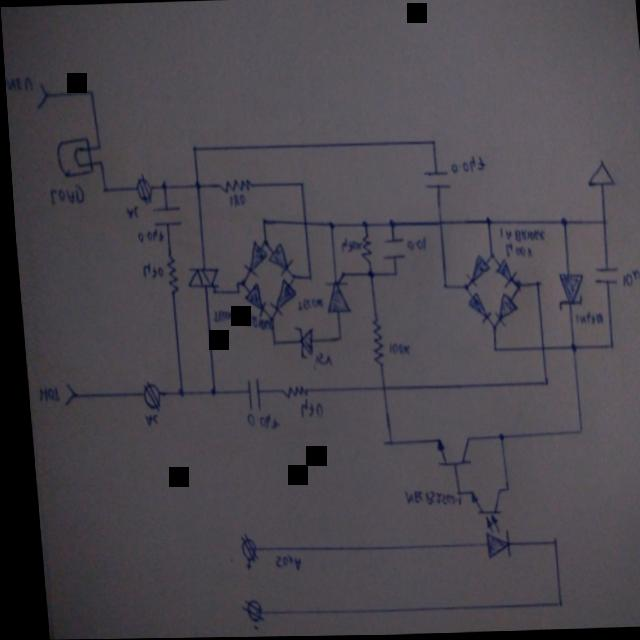capacitor: (377, 235, 401, 263), (420, 167, 446, 192), (148, 205, 177, 227), (238, 378, 257, 410), (588, 265, 613, 289)
crossover: (372, 384, 381, 394), (432, 220, 439, 228), (297, 220, 304, 228), (533, 346, 540, 354)
diode: (550, 273, 581, 313), (262, 279, 291, 316), (236, 242, 263, 276), (261, 244, 288, 276), (460, 255, 486, 287), (487, 293, 512, 326), (286, 325, 310, 359), (461, 293, 486, 323), (238, 284, 261, 316), (489, 259, 512, 287)
ground: (582, 162, 610, 188)
junction: (508, 282, 517, 293), (555, 218, 564, 227), (563, 343, 570, 353), (171, 388, 178, 398), (490, 432, 496, 443), (481, 217, 487, 227), (384, 220, 390, 230), (569, 429, 576, 437), (157, 182, 164, 190), (190, 182, 197, 190), (257, 238, 264, 246), (362, 271, 369, 279), (357, 220, 364, 228), (323, 222, 330, 230), (203, 388, 210, 396), (484, 252, 490, 261), (546, 601, 552, 610), (543, 538, 549, 547), (457, 285, 464, 292), (529, 281, 535, 289), (85, 88, 91, 96), (285, 273, 291, 281), (301, 274, 307, 282), (485, 324, 491, 332), (294, 181, 300, 189), (596, 221, 603, 227), (92, 144, 98, 151), (188, 145, 194, 152), (331, 335, 337, 342), (427, 139, 432, 147), (379, 440, 385, 446), (93, 160, 99, 166), (263, 315, 269, 321), (436, 284, 442, 290), (496, 486, 501, 493), (537, 380, 542, 387), (236, 280, 241, 287), (266, 338, 270, 346), (447, 491, 452, 497), (486, 348, 491, 354), (602, 345, 607, 351), (99, 187, 104, 193), (230, 289, 235, 295), (230, 281, 235, 287), (257, 218, 262, 224), (388, 271, 393, 277)
resistor: (365, 319, 378, 367), (214, 177, 249, 193), (160, 255, 174, 294), (356, 235, 369, 264), (275, 386, 302, 399)
terminal: (232, 599, 253, 622), (231, 533, 248, 561), (54, 380, 71, 407), (32, 84, 46, 108)
text: (395, 489, 452, 507), (493, 226, 540, 243), (45, 183, 81, 205), (446, 156, 481, 174), (239, 413, 272, 430), (238, 313, 267, 331), (292, 400, 317, 418), (500, 243, 526, 259), (4, 75, 30, 91), (266, 555, 292, 571), (617, 270, 640, 288), (568, 311, 597, 325), (291, 297, 318, 311), (136, 262, 158, 279), (132, 229, 158, 243), (32, 387, 53, 402), (401, 236, 421, 251), (336, 239, 357, 253), (206, 310, 230, 322), (381, 342, 403, 355), (307, 352, 325, 366), (225, 193, 241, 207), (137, 413, 151, 426), (120, 206, 135, 218)
thyristor: (317, 272, 345, 314)
transistor: (427, 436, 465, 467)
